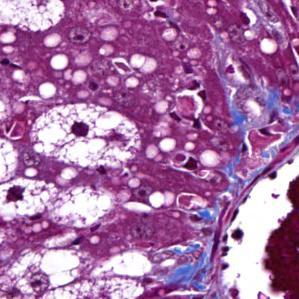ballooning: (29, 101, 143, 169), (4, 246, 91, 296), (45, 182, 117, 231), (4, 177, 61, 228), (3, 3, 65, 36)
